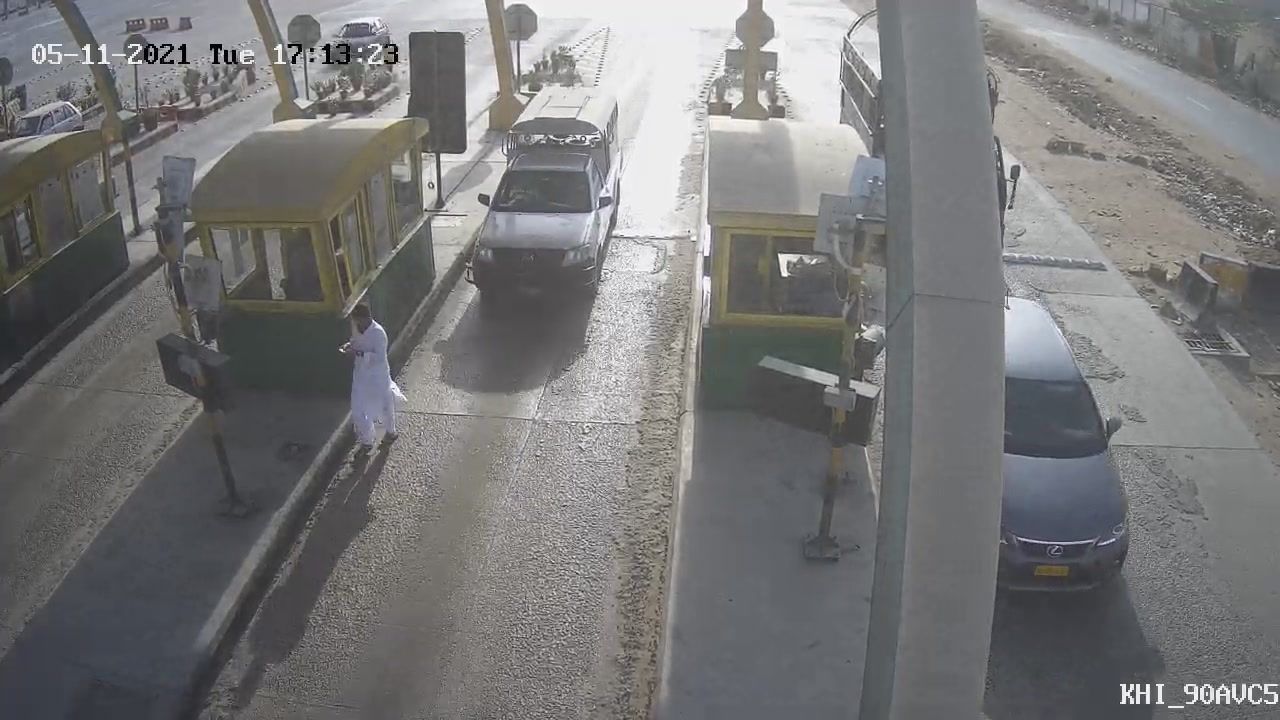F1: (447, 66, 642, 326)
